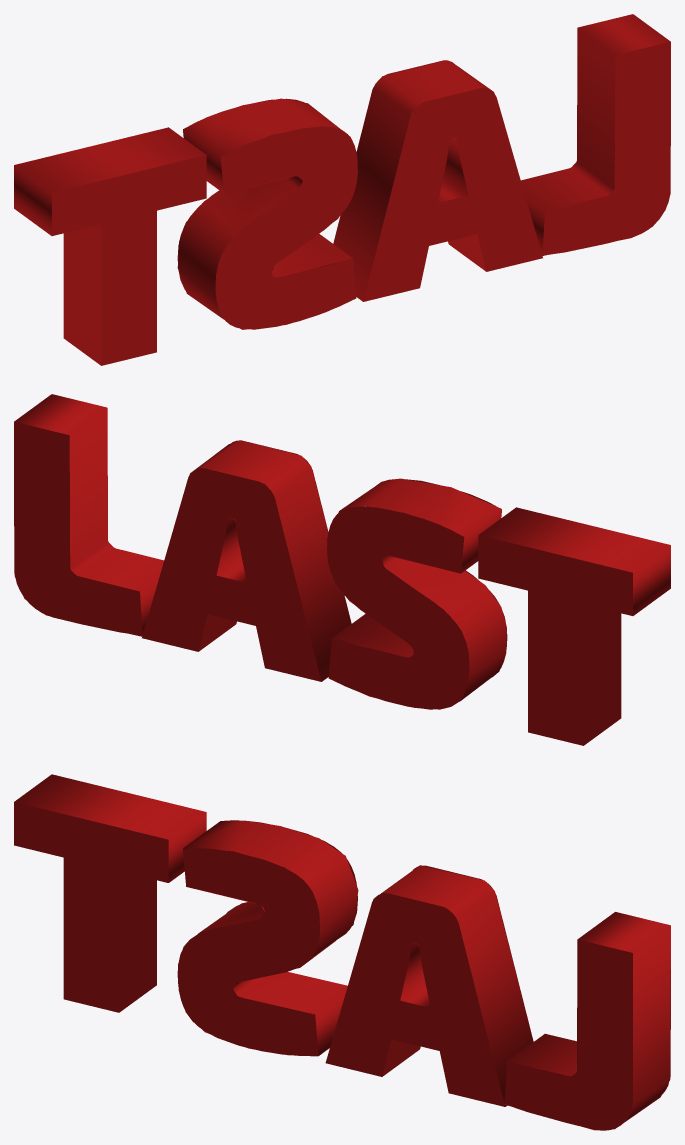
Rendered from last.fbx.
3 views of the same model, one above another, from view 1: azimuth 30°, elevation 25°; view 2: azimuth 150°, elevation 25°; view 3: azimuth 330°, elevation 25° (orthographic).
Visible parts, largest first — view 1: Text; view 2: Text; view 3: Text.
Part boxes in pixels (box(x1,y1,x2,y2)): Text: box(14, 14, 670, 365); Text: box(14, 394, 670, 745); Text: box(14, 774, 670, 1130).
Size of the model in its own units: 7.56 by 2.26 by 0.8.
